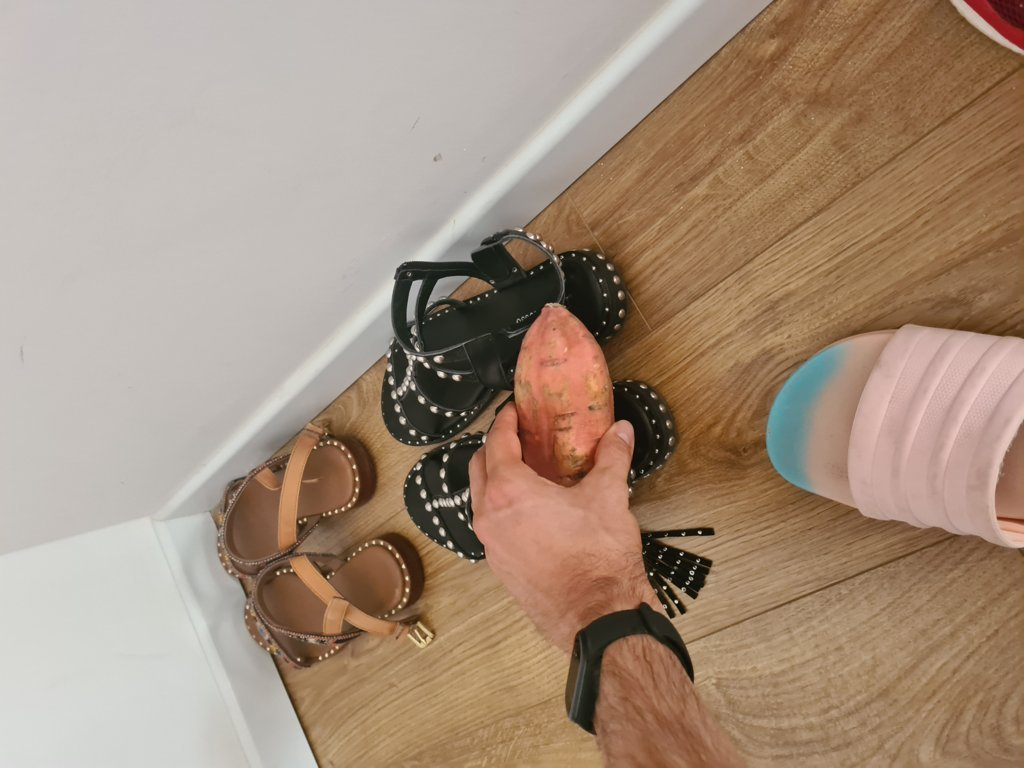Sweet Potatow: (518, 300, 616, 481)
